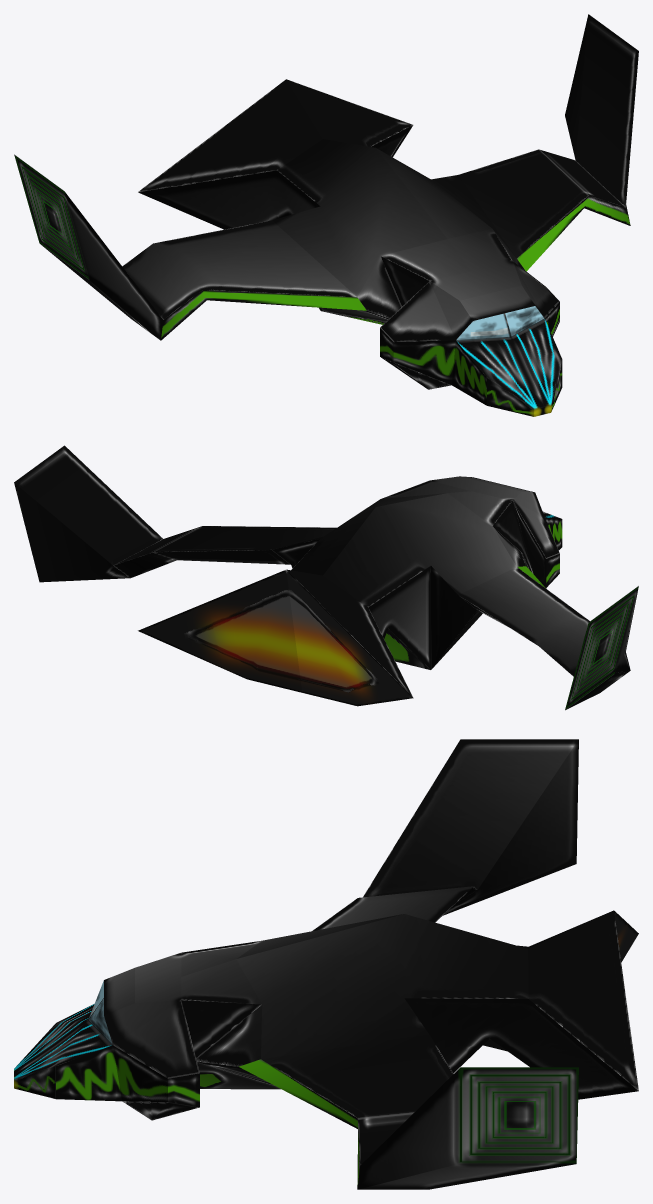
Rendered from player1.dae.
3 views of the same model, one above another, from view 1: azimuth 30°, elevation 25°; view 2: azimuth 150°, elevation 25°; view 3: azimuth 270°, elevation 25° (orthographic). The views are drawn at different scales.
Parts seen in each view (by area): view 1: polySurface1; view 2: polySurface1; view 3: polySurface1.
Boxes of the visible parts, left/top/right/bottom form: polySurface1: left=14, top=14, right=638, bottom=416; polySurface1: left=14, top=445, right=638, bottom=710; polySurface1: left=14, top=739, right=638, bottom=1189.
Size of the model in its own units: 12.46 by 3.29 by 10.03.
1 material, 1 textured.
